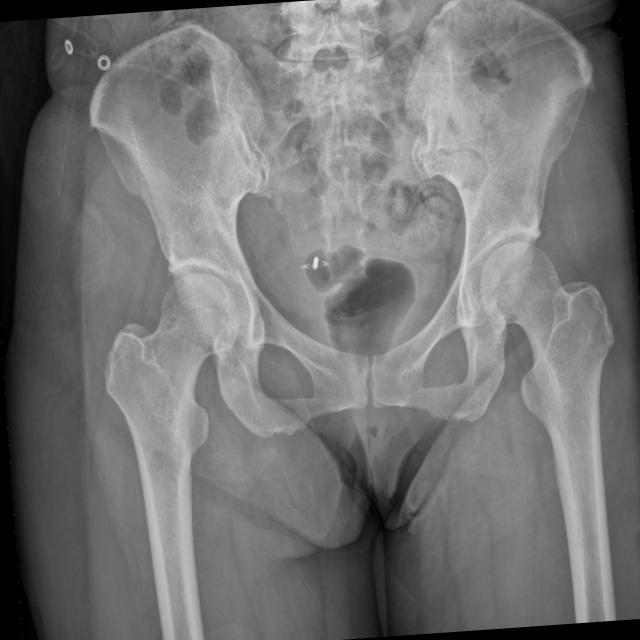normal-left: (479, 241, 615, 547)
normal-right: (103, 273, 239, 580)
